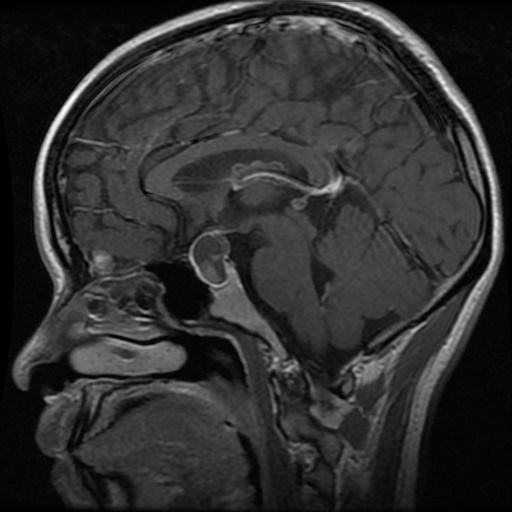pituitary: (194, 232, 230, 282)
